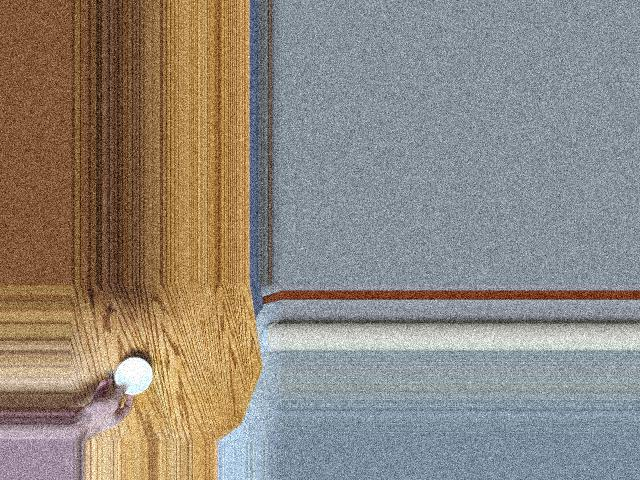cotage: (115, 354, 153, 397)
